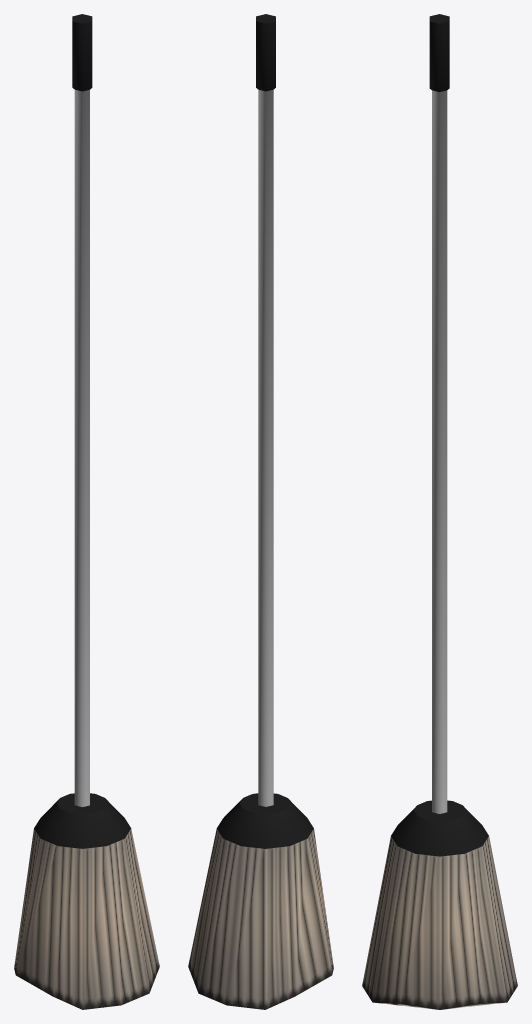
File: Mop.FBX
The picture shows the model from 3 angles, left to right: view 1: azimuth 30°, elevation 25°; view 2: azimuth 150°, elevation 25°; view 3: azimuth 270°, elevation 25°; orthographic projection.
Parts seen in each view (by area): view 1: Mop; view 2: Mop; view 3: Mop.
Part boxes in pixels (left/top/right/bottom): Mop: left=14, top=14, right=159, bottom=1009; Mop: left=188, top=14, right=333, bottom=1009; Mop: left=362, top=14, right=517, bottom=1009.
Size of the model in its own units: 30 by 205 by 30.
